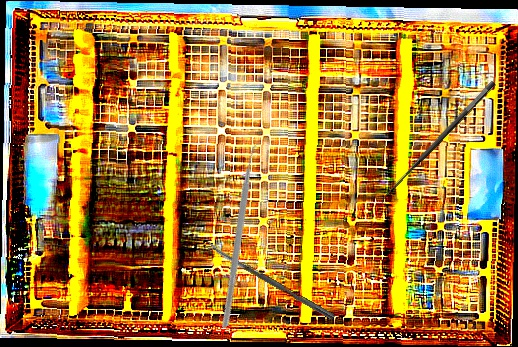Chopper: (162, 139, 328, 329)
Hook Surgical: (374, 78, 506, 214)
Surgical Spoon: (205, 240, 336, 321)
